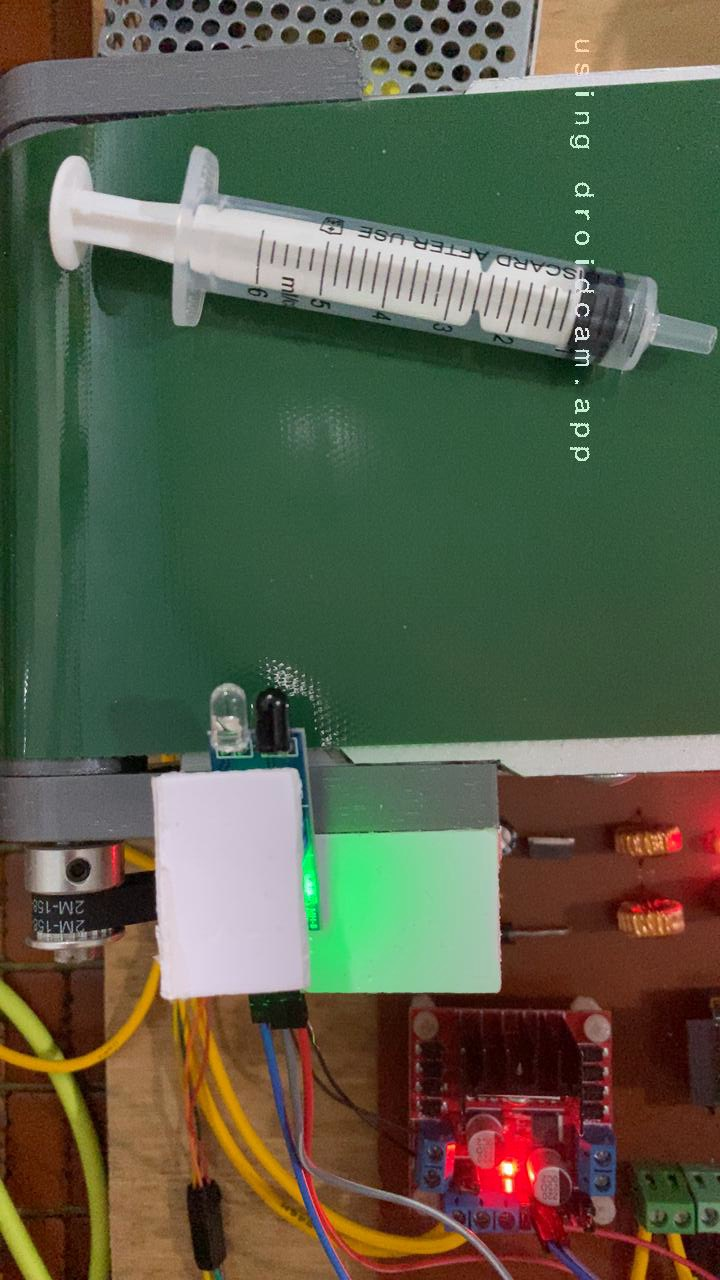syringe: (41, 139, 682, 379)
